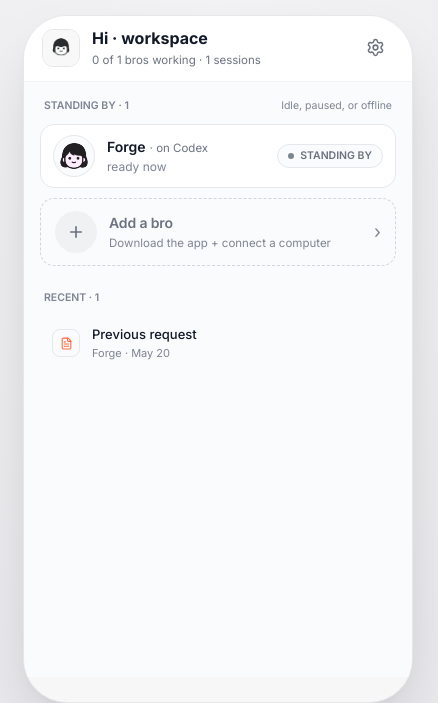
Test: Newbro artboard shell › renders settled mobile turn like desktop: last 3 steps, Show all toggle, inline answer, no task card
Click the button with test id "mobile-bro-row-forge" at (74, 156), box [40,124,396,188]
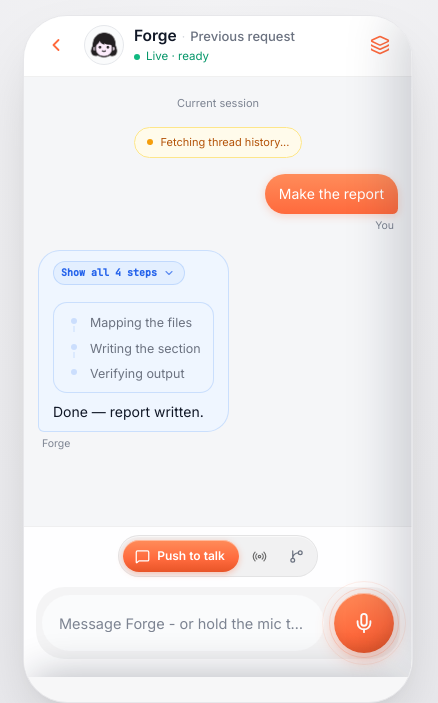
Check: the text "Done — report written." is shown, box [53,402,214,421]
Check: the text "Mapping the files" is shown, box [90,314,192,332]
Check: the text "Writing the section" is shown, box [90,340,201,357]
// "Show all N steps" toggle expands to all steps.
Click the button "Show all 4 steps" at (119, 273), box [53,260,185,285]
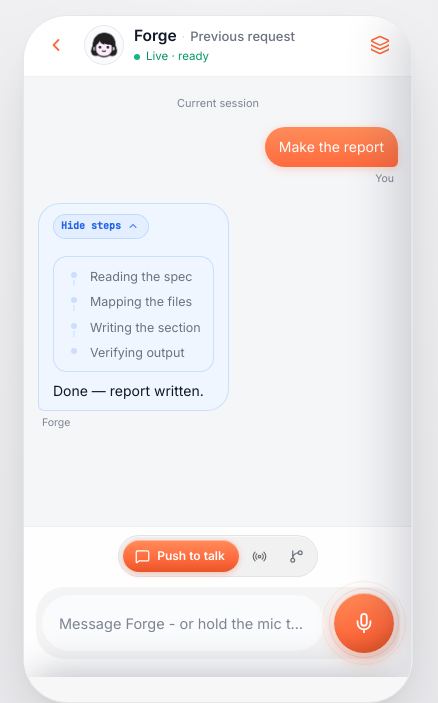
Check: the text "Reading the spec" is shown, box [90,268,192,285]
Check: the button "Hide steps" is shown, box [53,214,149,238]
